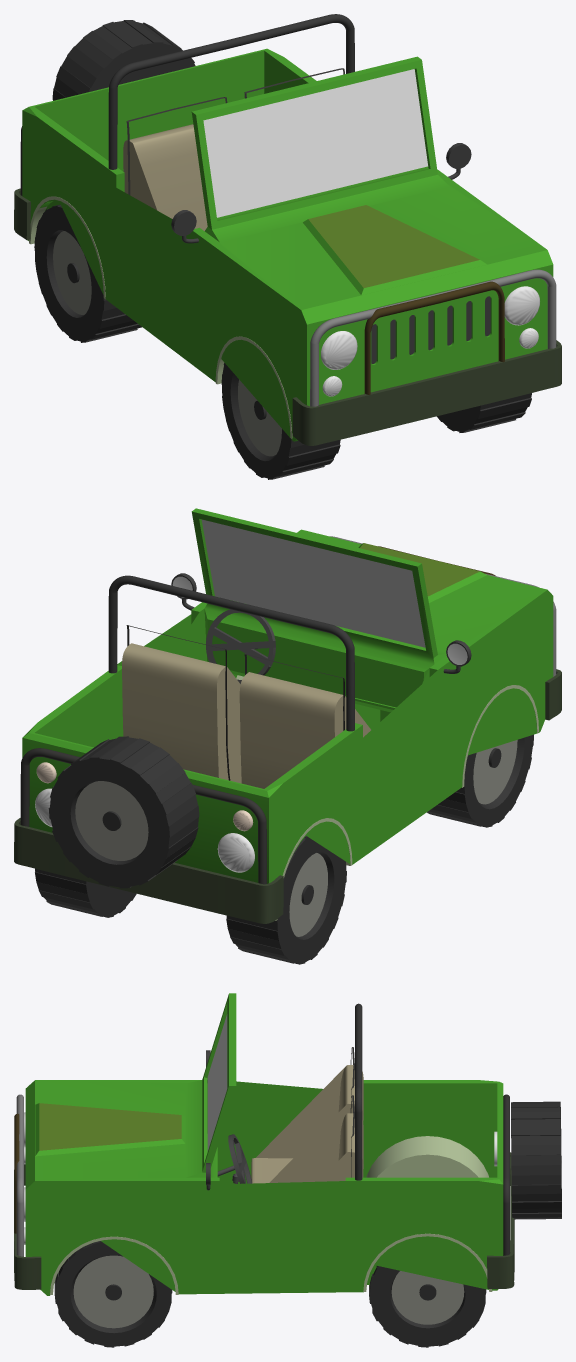
The model's file is jeep.fbx.
The picture shows the model from 3 angles, top to bottom: view 1: azimuth 30°, elevation 25°; view 2: azimuth 150°, elevation 25°; view 3: azimuth 270°, elevation 25°; orthographic projection. The views are drawn at different scales.
Parts seen in each view (by area): view 1: Gövde, Loft_2, Extrude_7, Extrude_6, Extrude_5, Extrude_9, Sweep_4, Sweep_3, Sweep_2, Extrude_4, Çamurluk, Aynalar (+2 smaller); view 2: Gövde, Extrude_5, Extrude_11, Extrude_6, Extrude_9, Loft, Extrude_7, Sweep_4, Sweep, Direksiyon, Extrude_3, Aynalar (+3 smaller); view 3: Gövde, Extrude_7, Extrude_6, Extrude_5, Çamurluk, Extrude_9, Extrude_11, Sweep_4, Loft, Sweep_3, Sweep, Loft_2 (+2 smaller).
Boxes of the visible parts, x1,y1,x2,y2 form: Gövde: (22,48,553,441); Loft_2: (292,340,561,445); Extrude_7: (221,363,531,479); Extrude_6: (34,204,141,342); Extrude_5: (52,20,195,100); Extrude_9: (123,124,207,230); Sweep_4: (108,14,354,169); Sweep_3: (310,269,556,406); Sweep_2: (364,281,504,394); Extrude_4: (321,286,539,369); Çamurluk: (29,196,292,438); Aynalar: (171,143,471,243); Gövde: (22,508,553,883); Extrude_5: (48,736,199,888); Extrude_11: (122,643,241,783); Extrude_6: (35,836,346,964); Extrude_9: (239,672,370,788); Loft: (14,818,283,923); Extrude_7: (427,734,533,827); Sweep_4: (108,575,354,731); Sweep: (20,748,266,884); Direksiyon: (206,609,275,683); Extrude_3: (35,788,254,872); Aynalar: (171,573,471,673); Gövde: (25,993,503,1295); Extrude_7: (54,1241,172,1347); Extrude_6: (369,1266,486,1347); Extrude_5: (511,1101,561,1219); Çamurluk: (50,1136,492,1294); Extrude_9: (251,1065,363,1183); Extrude_11: (279,1113,363,1182); Sweep_4: (355,1003,362,1180); Loft: (487,1152,514,1288); Sweep_3: (16,1094,23,1256); Sweep: (503,1094,509,1255); Loft_2: (14,1164,41,1289).
Size of the model in its own units: 314 by 310 by 596.
